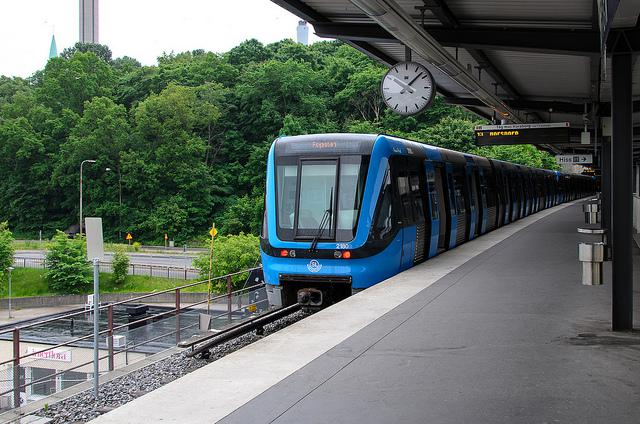Train: (258, 132, 599, 309)
